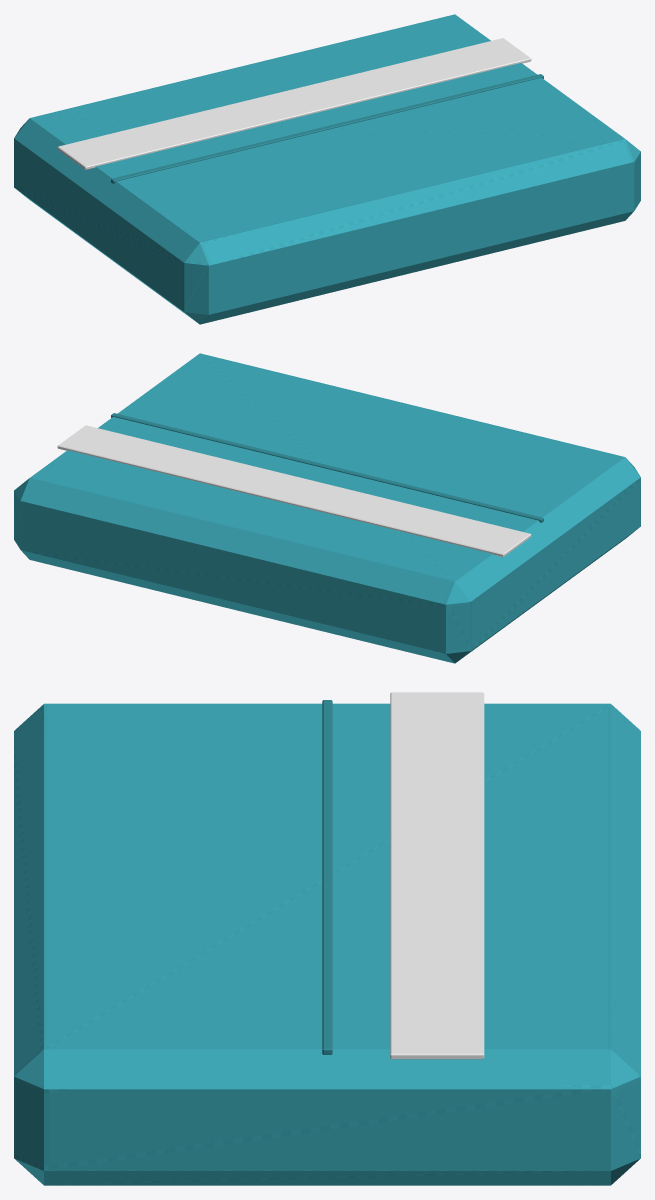
The model's file is towel.glb.
3 renders of one model, top to bottom at view 1: azimuth 30°, elevation 25°; view 2: azimuth 150°, elevation 25°; view 3: azimuth 270°, elevation 25°, orthographic. The views are drawn at different scales.
Parts seen in each view (by area): view 1: block_body, block_stripe, block_fold; view 2: block_body, block_stripe, block_fold; view 3: block_body, block_stripe, block_fold.
Part boxes in pixels (<box>): block_body: <box>14,14,640,324</box>; block_stripe: <box>57,38,531,169</box>; block_fold: <box>111,74,543,183</box>; block_body: <box>14,353,640,663</box>; block_stripe: <box>57,425,531,557</box>; block_fold: <box>111,413,543,522</box>; block_body: <box>14,703,640,1185</box>; block_stripe: <box>390,692,484,1059</box>; block_fold: <box>322,700,332,1054</box>.
Bounding box in the file's own units: 0.35 × 0.0615 × 0.25.
1 material, 1 textured.
